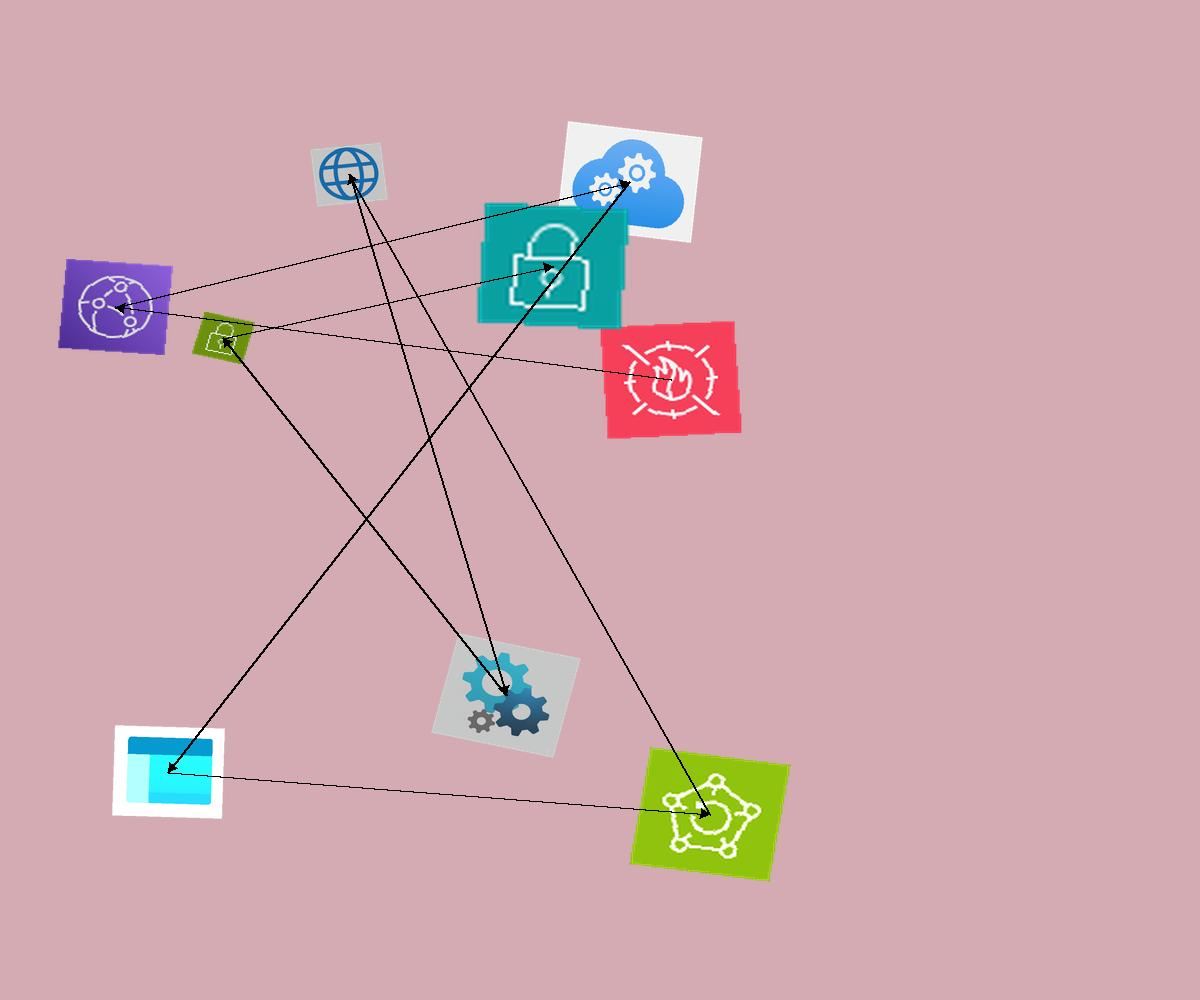AWS-Backup: (629, 747, 791, 882)
AWS-CloudFront: (57, 258, 174, 356)
AWS-Private-subnet: (474, 200, 632, 332)
AWS-Public-subnet: (191, 311, 256, 365)
AWS-WAF: (599, 320, 743, 440)
Azure_api: (431, 633, 581, 758)
Azure_cloud_services: (556, 121, 703, 243)
Azure_http: (310, 142, 388, 207)
Azure_management-portal: (112, 725, 225, 819)
